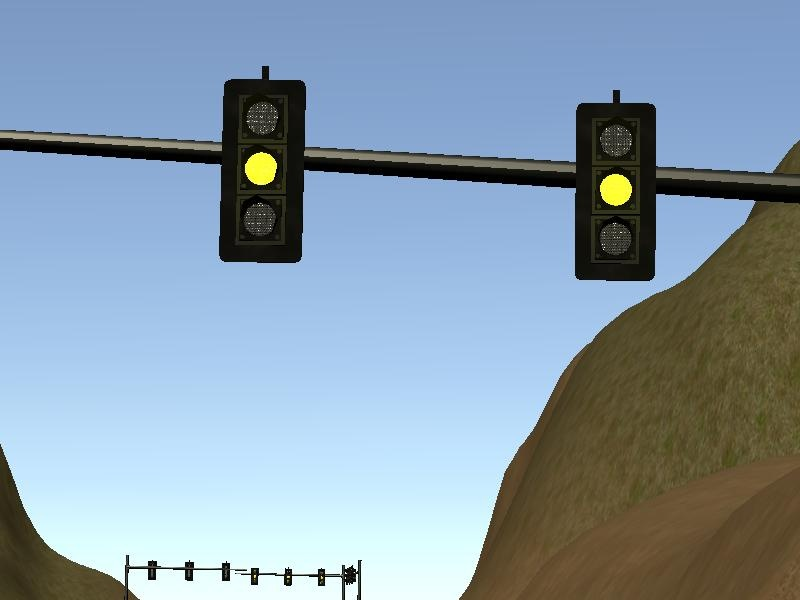yellow: (204, 59, 316, 271), (560, 80, 668, 291)
